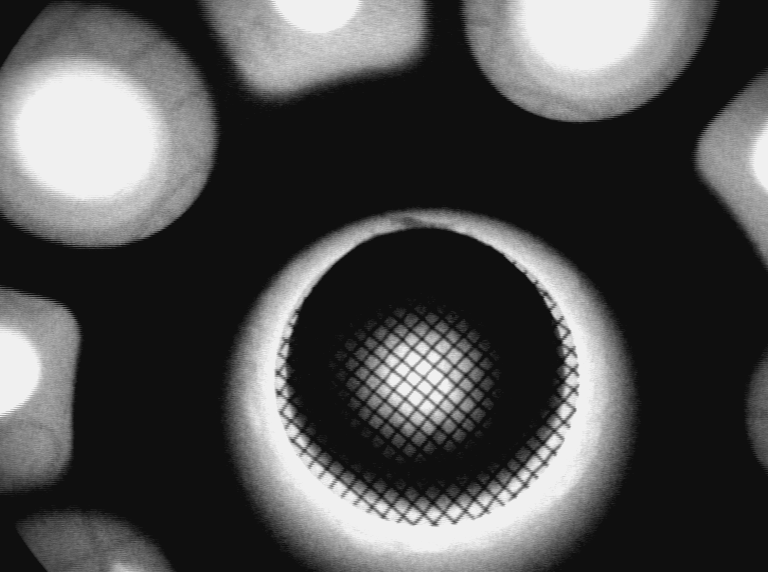defect: (106, 556, 143, 570)
